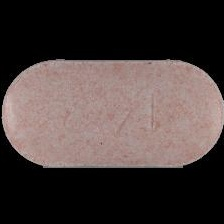62756-143: (0, 0, 224, 224)
